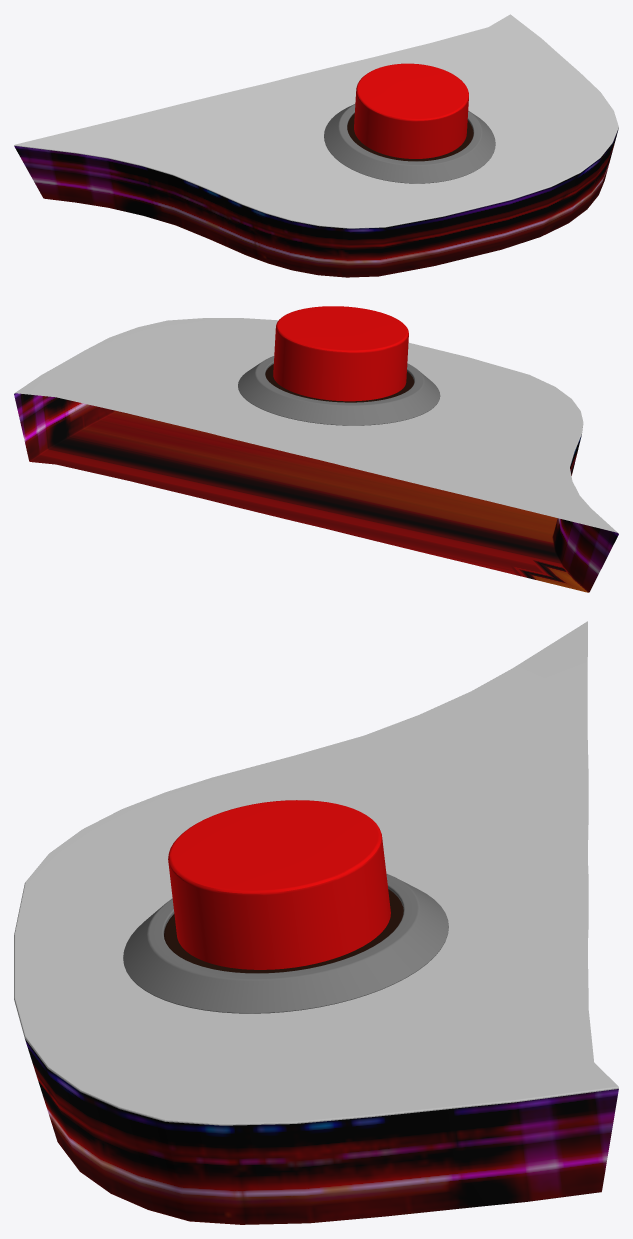
File: front_button.fbx
3 renders of one model, top to bottom at view 1: azimuth 30°, elevation 25°; view 2: azimuth 150°, elevation 25°; view 3: azimuth 270°, elevation 25°, orthographic. The views are drawn at different scales.
Visible parts, largest first — view 1: polySurface4, polySurface5, button, polySurface7, polySurface10; view 2: polySurface4, polySurface5, button, polySurface7, polySurface10; view 3: polySurface4, polySurface5, button, polySurface7, polySurface10.
Boxes of the visible parts, x1,y1,x2,y2 form: polySurface4: (14, 14, 618, 228); polySurface5: (14, 128, 618, 277); button: (354, 63, 468, 158); polySurface7: (324, 104, 495, 183); polySurface10: (347, 113, 473, 161); polySurface4: (14, 318, 618, 533); polySurface5: (14, 393, 618, 592); button: (273, 306, 408, 401); polySurface7: (238, 356, 440, 425); polySurface10: (265, 364, 414, 402); polySurface4: (14, 621, 618, 1125); polySurface5: (25, 1039, 618, 1224); button: (168, 800, 390, 969); polySurface7: (123, 873, 448, 1013); polySurface10: (164, 889, 403, 973).
Bounding box in the file's own units: 0.5756 × 0.1372 × 0.3103.
